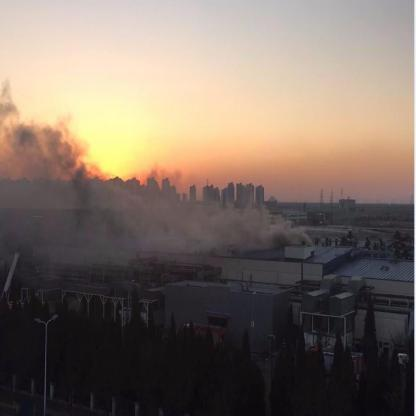smoke: (104, 185, 307, 268), (32, 120, 98, 275), (0, 79, 33, 256)
